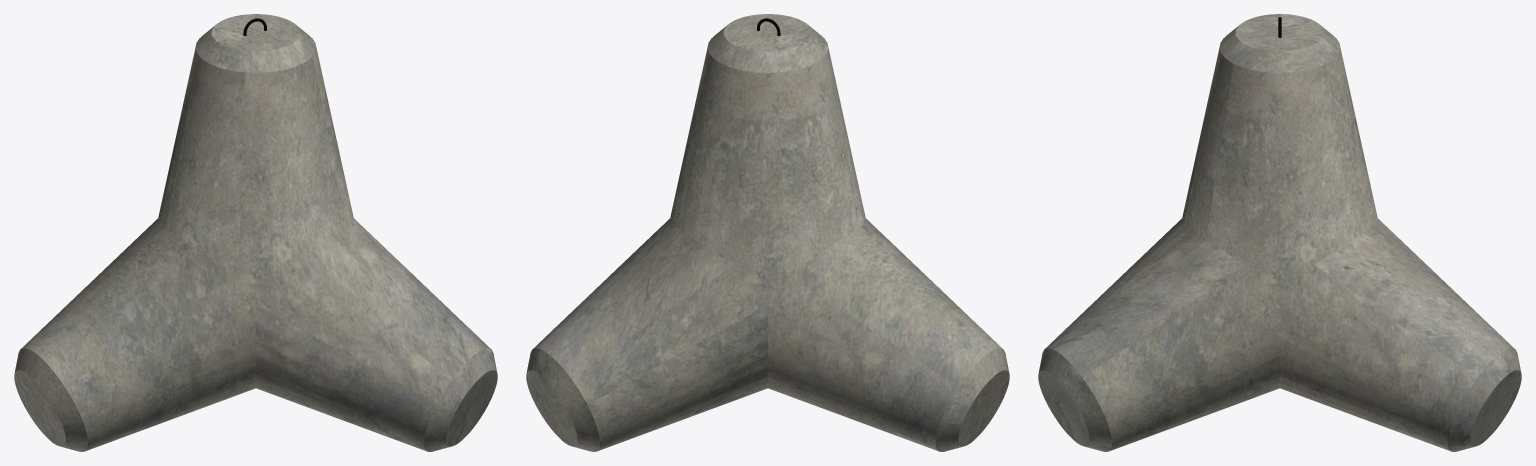
The model's file is tetrapod.glb.
3 renders of one model, left to right at view 1: azimuth 30°, elevation 25°; view 2: azimuth 150°, elevation 25°; view 3: azimuth 270°, elevation 25°, orthographic.
Visible parts, largest first — view 1: Cylinder03_01 - Default_0_n3d; view 2: Cylinder03_01 - Default_0_n3d; view 3: Cylinder03_01 - Default_0_n3d.
Boxes of the visible parts, x1,y1,x2,y2 form: Cylinder03_01 - Default_0_n3d: (14, 14, 497, 451); Cylinder03_01 - Default_0_n3d: (526, 14, 1009, 451); Cylinder03_01 - Default_0_n3d: (1038, 14, 1521, 451).
Size of the model in its own units: 4.32 by 4.2 by 4.8.
2 materials, 1 textured.
